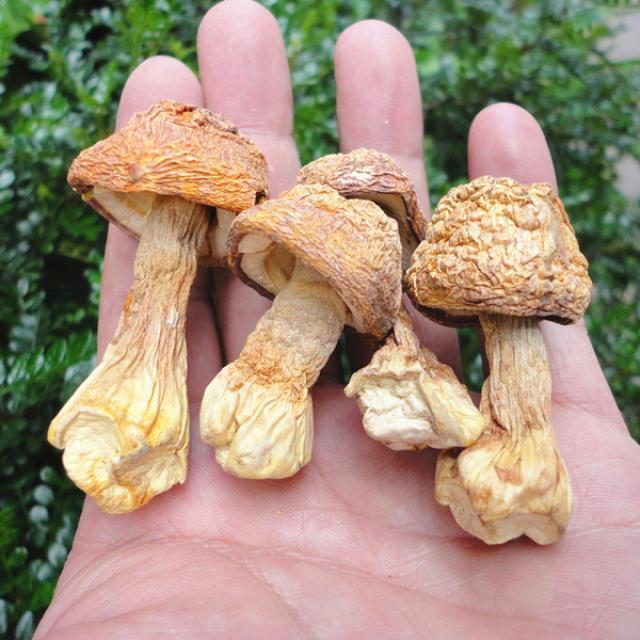Agaricus blazei Murill: (55, 106, 259, 509), (415, 181, 589, 545), (205, 186, 390, 482)
